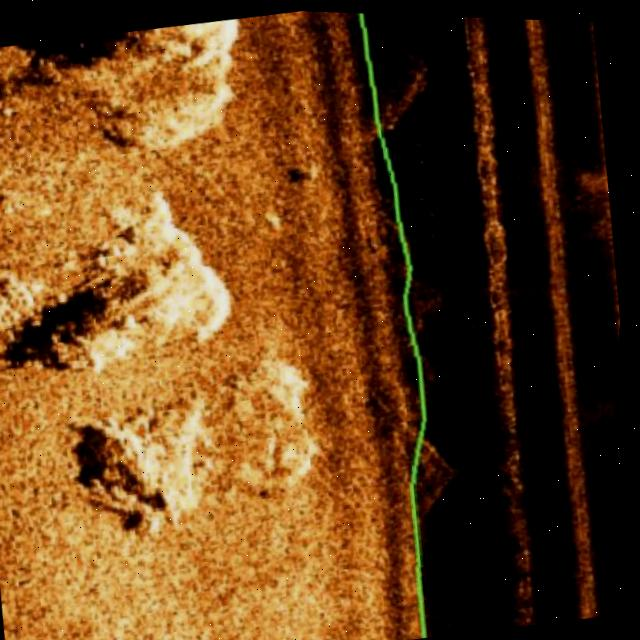bedrock group: (0, 0, 370, 561)
